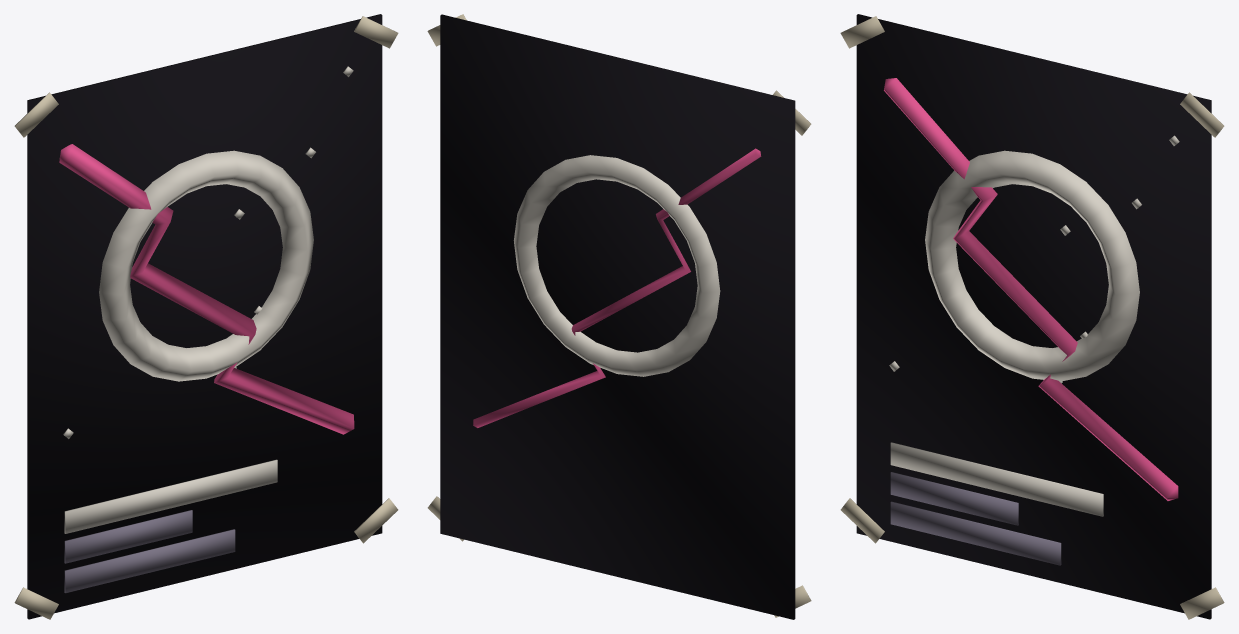
The model's file is poster_a.glb.
3 renders of one model, left to right at view 1: azimuth 30°, elevation 25°; view 2: azimuth 150°, elevation 25°; view 3: azimuth 330°, elevation 25°, orthographic.
Parts seen in each view (by area): view 1: poster_a; view 2: poster_a; view 3: poster_a.
Boxes of the visible parts, box(x1,y1,x2,y2) form: poster_a: box(14, 14, 398, 619); poster_a: box(427, 14, 811, 619); poster_a: box(840, 14, 1224, 619).
Bounding box in the file's own units: 0.5419 × 0.712 × 0.044.
